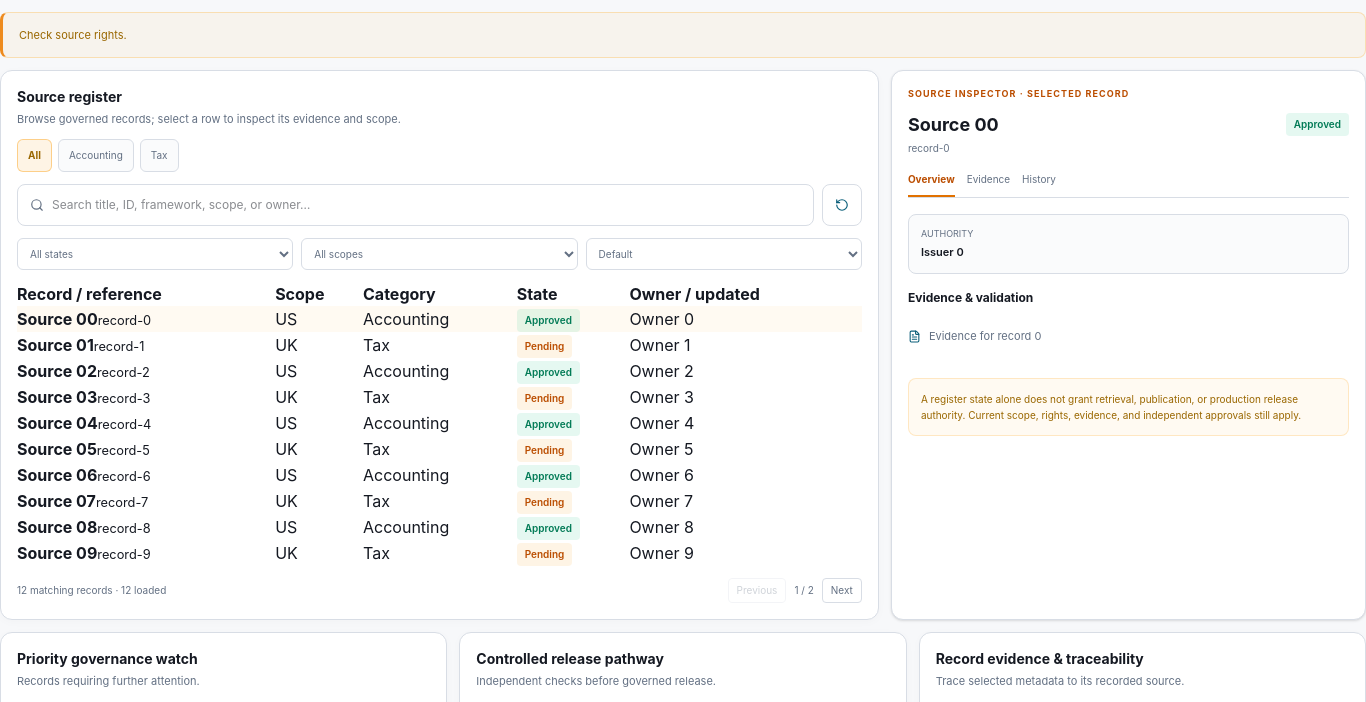
Test: Governed register interactions › selects actual record evidence and inspector history
Click the button "Source 03" at (57, 397), box x1=17 y1=385 x2=97 y2=409
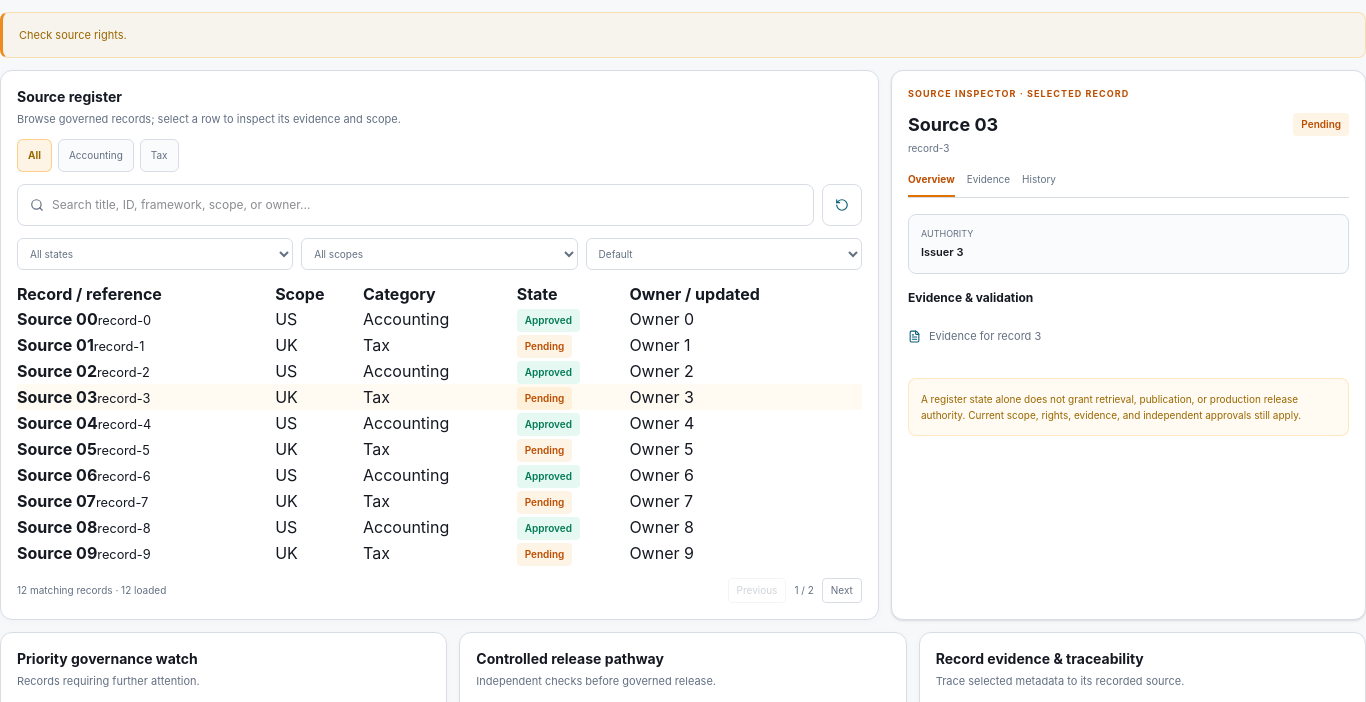
Now the text "Issuer 3" is shown, box x1=921 y1=245 x2=963 y2=259
Now the text "Evidence for record 3" is shown, box x1=929 y1=326 x2=1041 y2=346
Click the button "History" at (1039, 184), box x1=1022 y1=172 x2=1056 y2=196
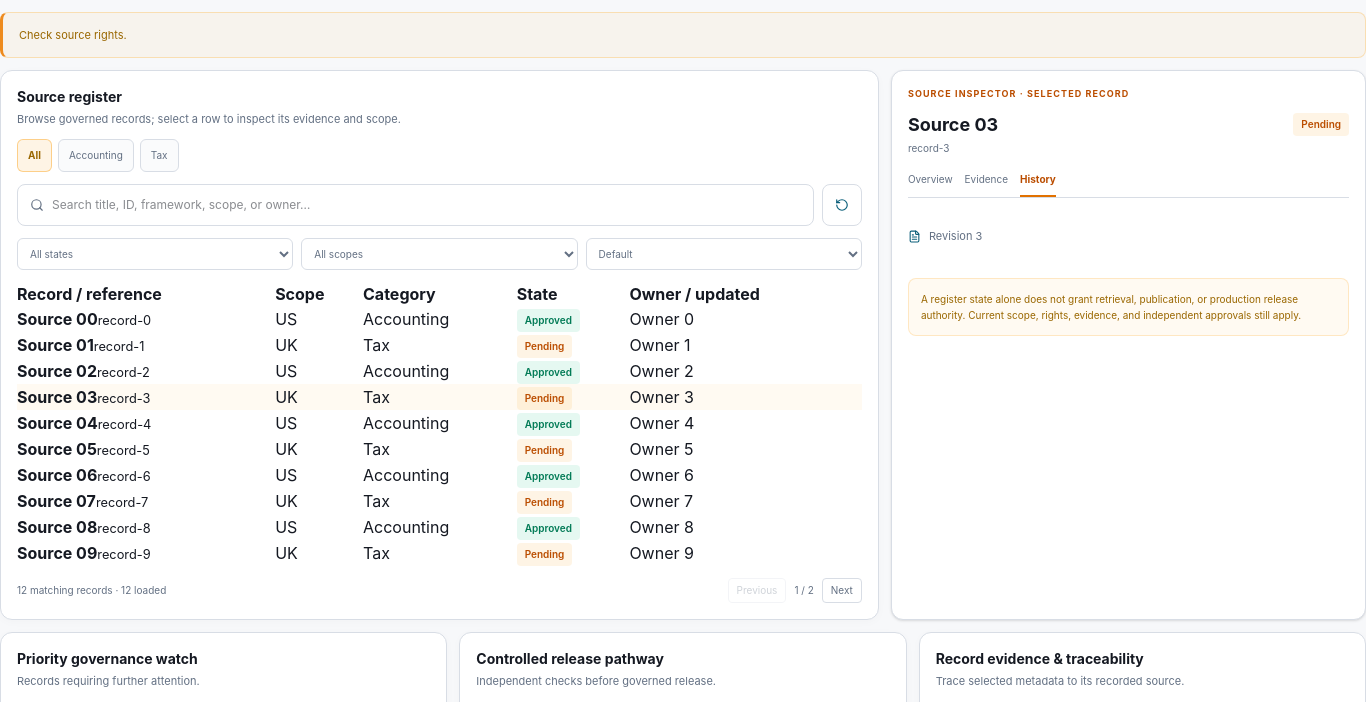
Now the text "Revision 3" below "Source inspector" is shown, box x1=929 y1=228 x2=982 y2=242
Now the text "Issuer 3" is gone
